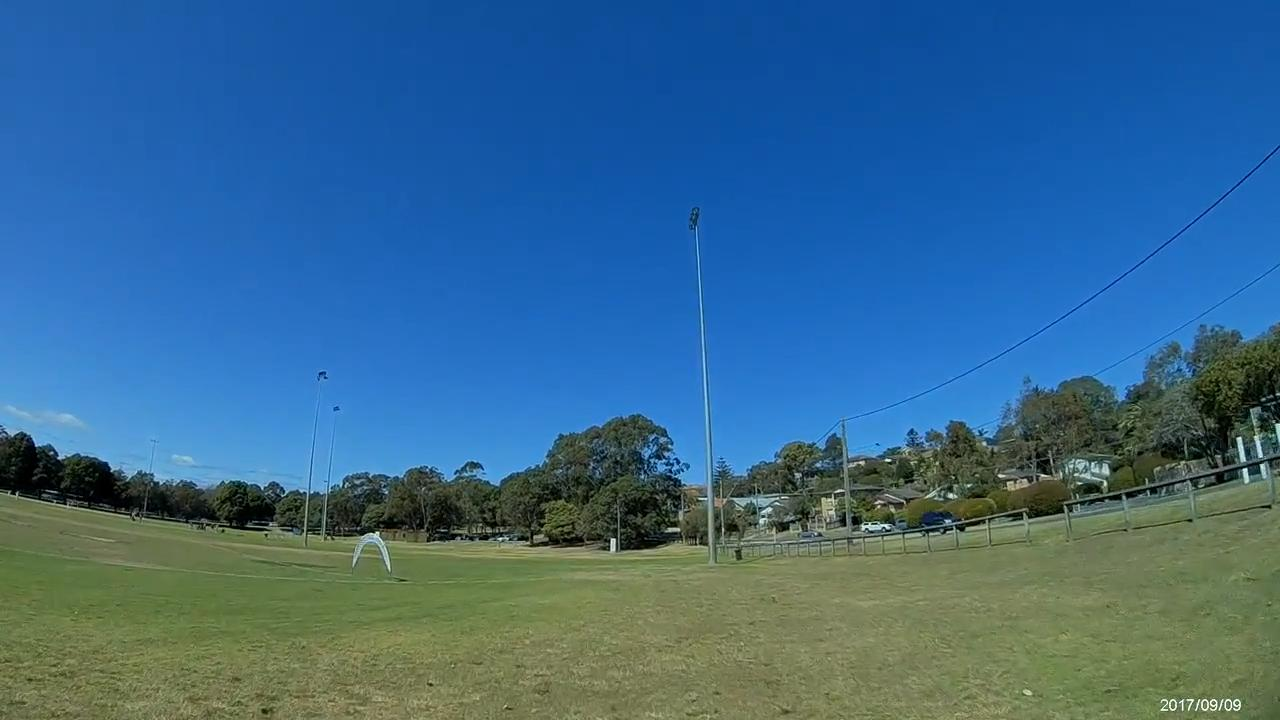gate: (350, 533, 390, 573)
